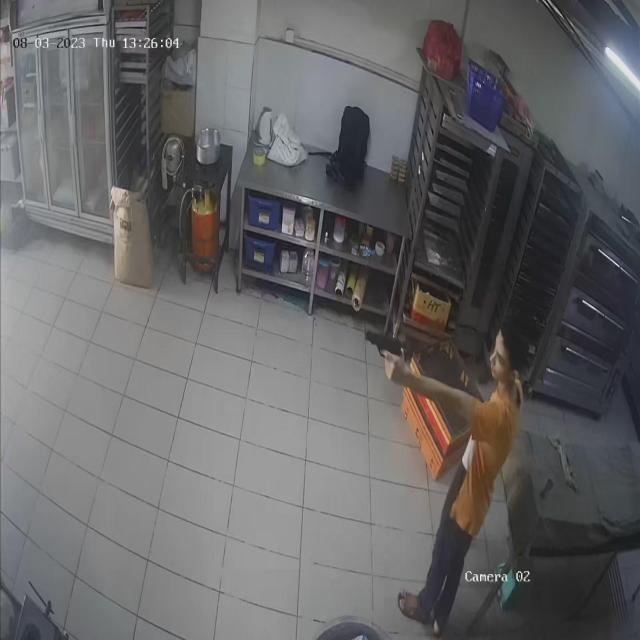Gun: (357, 318, 423, 375)
